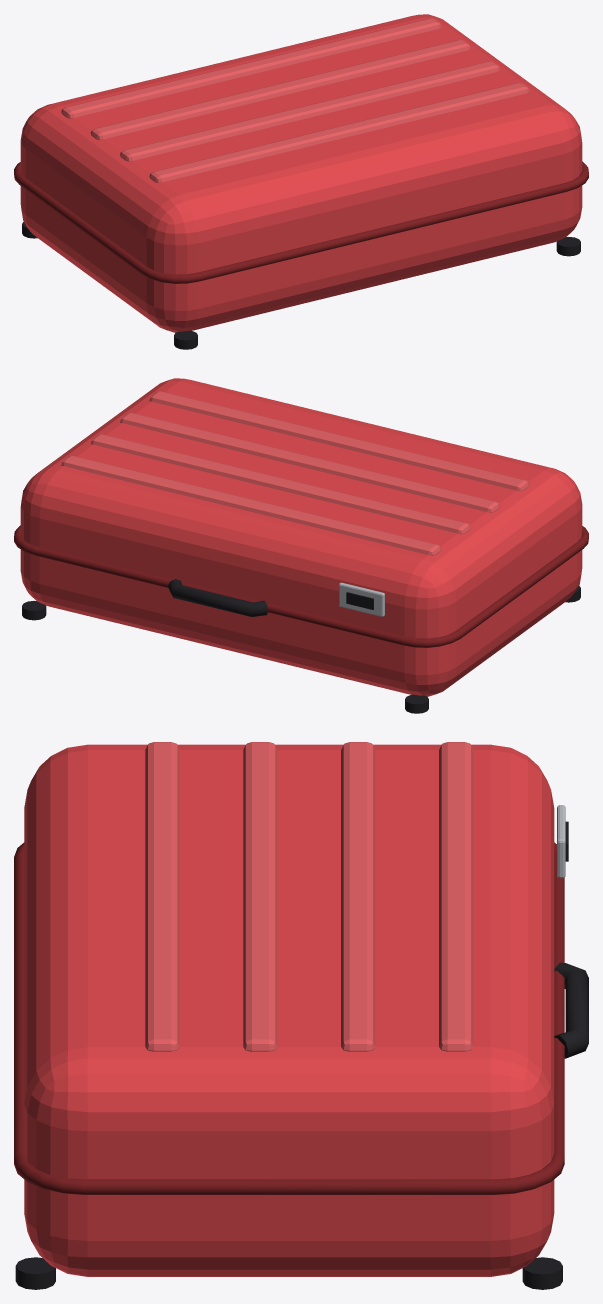
Rendered from suitcase_red.fbx.
3 views of the same model, one above another, from view 1: azimuth 30°, elevation 25°; view 2: azimuth 150°, elevation 25°; view 3: azimuth 270°, elevation 25° (orthographic). The views are drawn at different scales.
Visible parts, largest first — view 1: Hard-Shell Suitcase; view 2: Hard-Shell Suitcase; view 3: Hard-Shell Suitcase.
Boxes of the visible parts, x1,y1,x2,y2 form: Hard-Shell Suitcase: [14, 14, 588, 349]; Hard-Shell Suitcase: [14, 378, 588, 713]; Hard-Shell Suitcase: [14, 742, 588, 1289].
Size of the model in its own units: 2.95 by 0.9 by 2.
